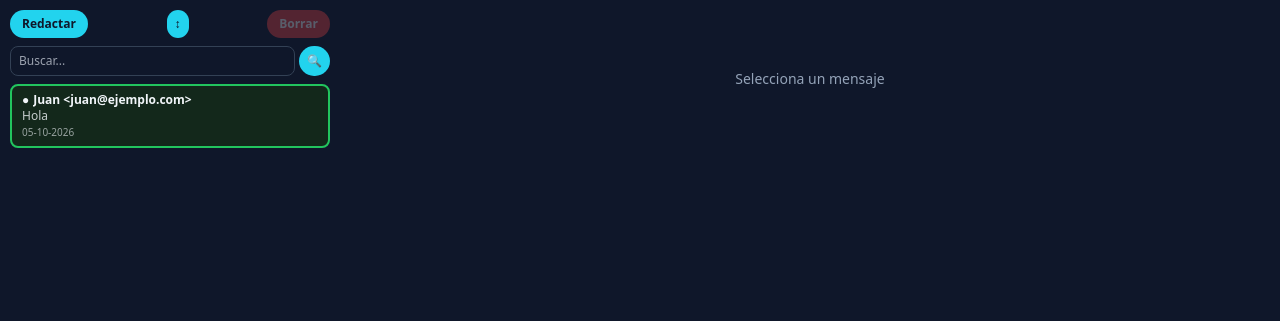
CorreoPage — responder a todos › llena Para (remitente+destinatarios) y CC sin mi dirección
Click the text "Juan <juan@ejemplo.com>" at [112, 100], box [33,92,192,108]
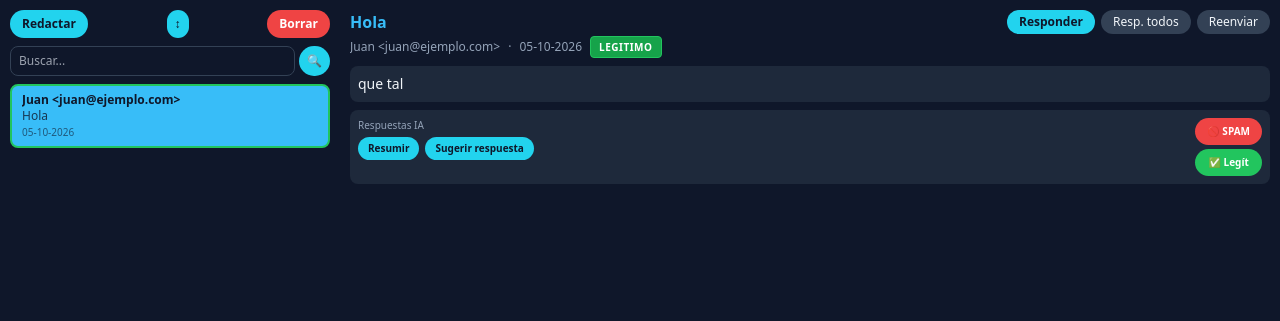
Click the button "Resp. todos" at [1146, 22], box [1101,10,1191,34]
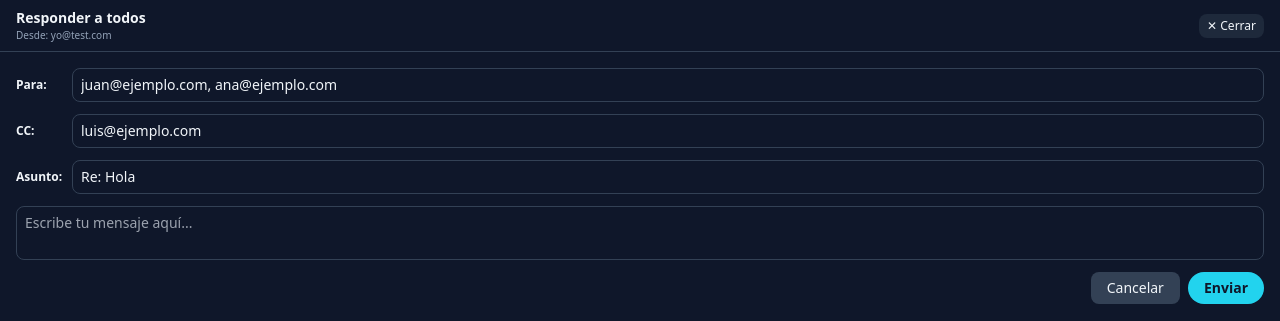
Check: the field next to "Para:" holds "juan@ejemplo.com, ana@ejemplo.com", box [72,68,1264,102]
Check: the field next to "CC:" holds "luis@ejemplo.com", box [72,114,1264,148]
Check: the heading "Responder a todos" is shown, box [16,8,146,28]
